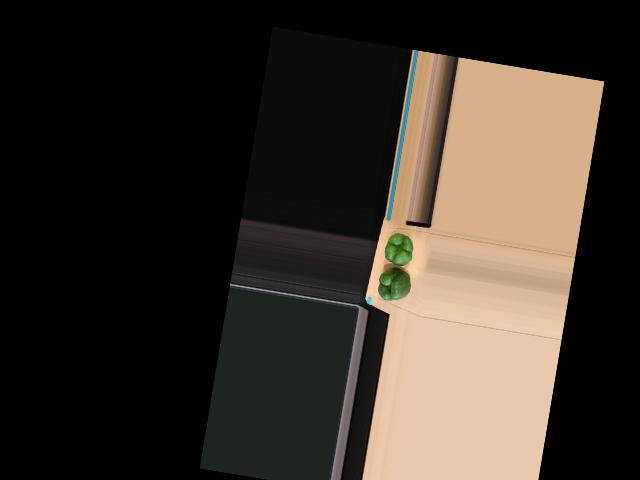bell_pepper: (382, 231, 419, 269)
